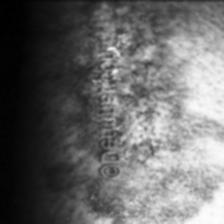Unclassified: (98, 3, 148, 35), (139, 94, 191, 124)
